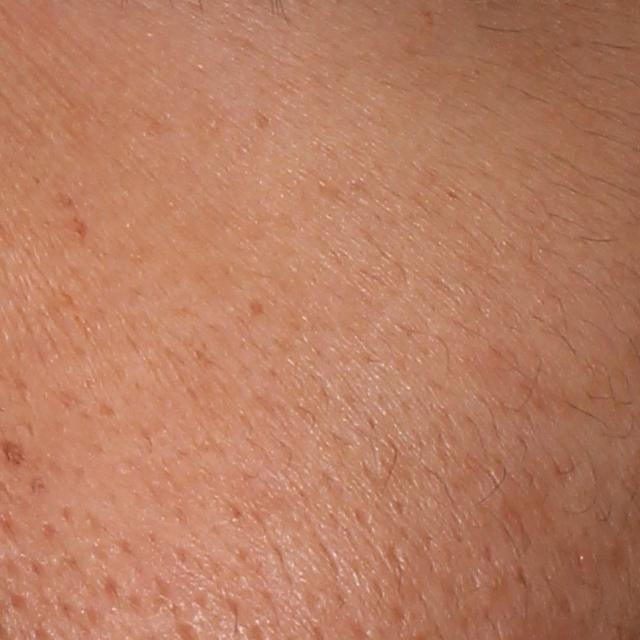atrophic_scar: (126, 574, 179, 620)
melasma: (53, 186, 92, 242), (251, 108, 272, 131)
